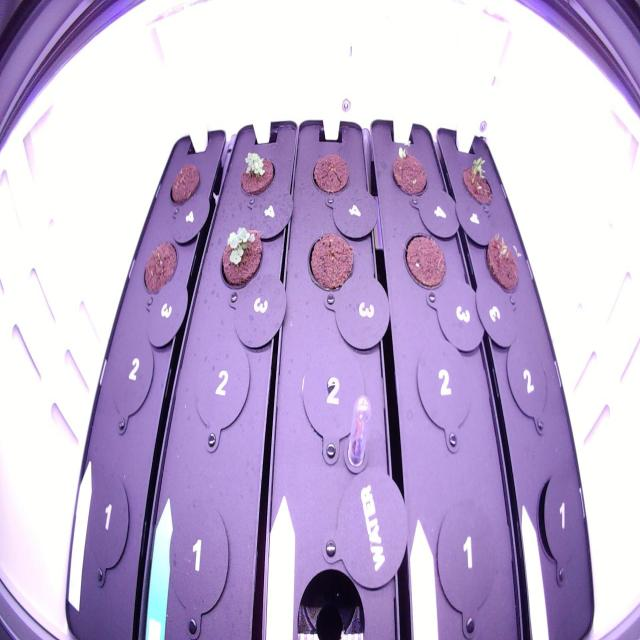empty_pod: (426, 491, 506, 623), (293, 336, 375, 462), (406, 329, 482, 454), (164, 499, 238, 622), (186, 330, 258, 439), (498, 326, 562, 428), (530, 469, 588, 580), (81, 470, 137, 576), (105, 329, 158, 419)
germination: (214, 218, 268, 299), (479, 219, 528, 305), (386, 129, 433, 209), (454, 143, 501, 216), (231, 143, 281, 200)
pod: (301, 224, 358, 302), (398, 222, 451, 300), (136, 232, 184, 302), (307, 146, 353, 204), (162, 154, 205, 216)
